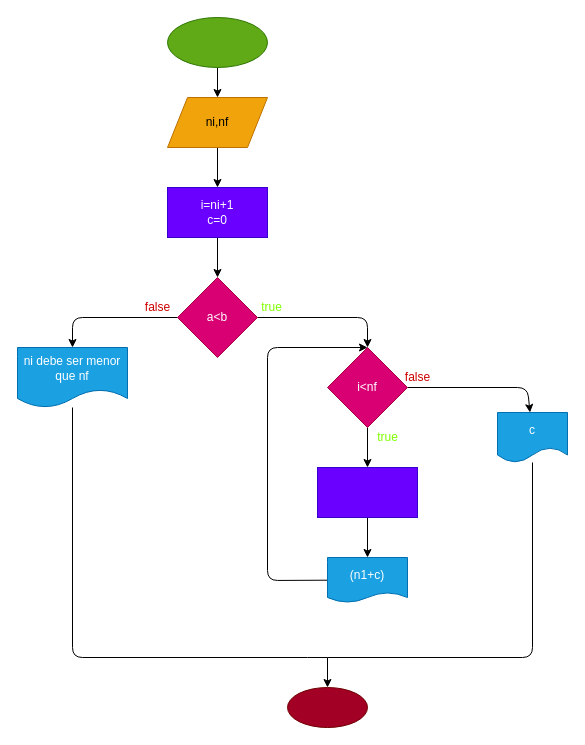
Image size: 585x745. Some labels were removed from this diagram. Each missing label, with the box of its shape:
Fin: (286, 686, 368, 728)
i=i+1 c=c+1: (316, 466, 418, 518)
Inicio: (166, 16, 268, 68)
